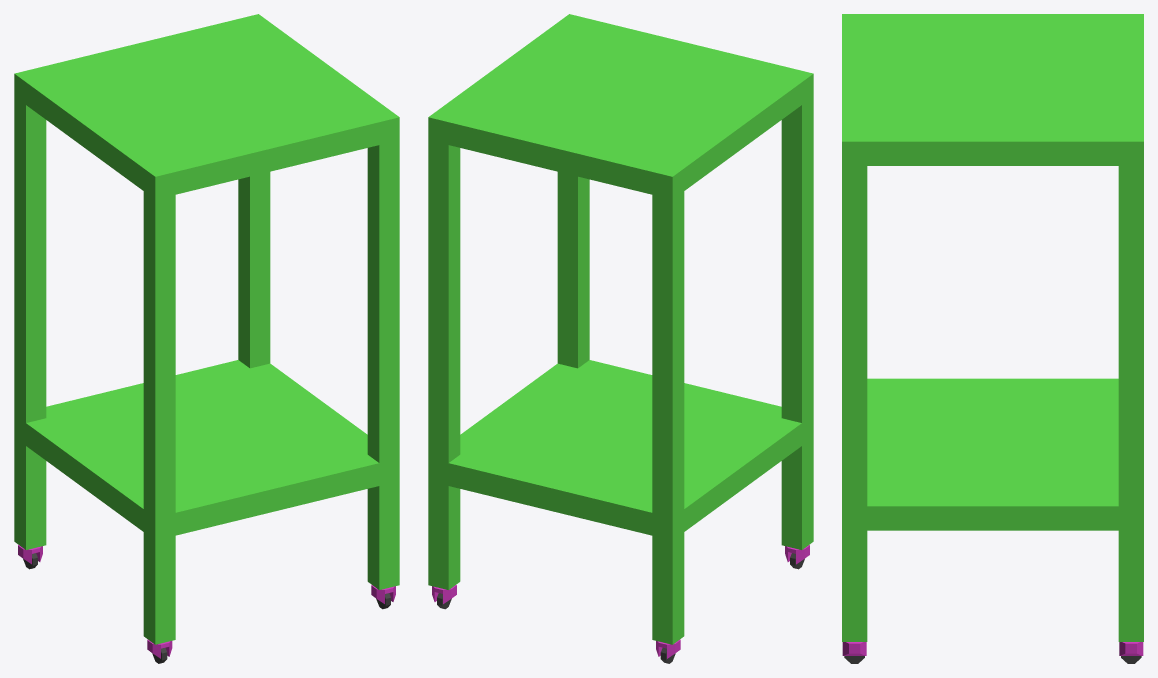
Rendered from Desk_09.fbx.
The picture shows the model from 3 angles, left to right: view 1: azimuth 30°, elevation 25°; view 2: azimuth 150°, elevation 25°; view 3: azimuth 270°, elevation 25°; orthographic projection. The views are drawn at different scales.
Parts seen in each view (by area): view 1: Desk_09; view 2: Desk_09; view 3: Desk_09.
Part boxes in pixels (box(x1,y1,x2,y2)): Desk_09: box(14, 14, 399, 663); Desk_09: box(428, 14, 813, 663); Desk_09: box(842, 14, 1143, 663).
Bounding box in the file's own units: 53.96 × 104 × 53.96.
